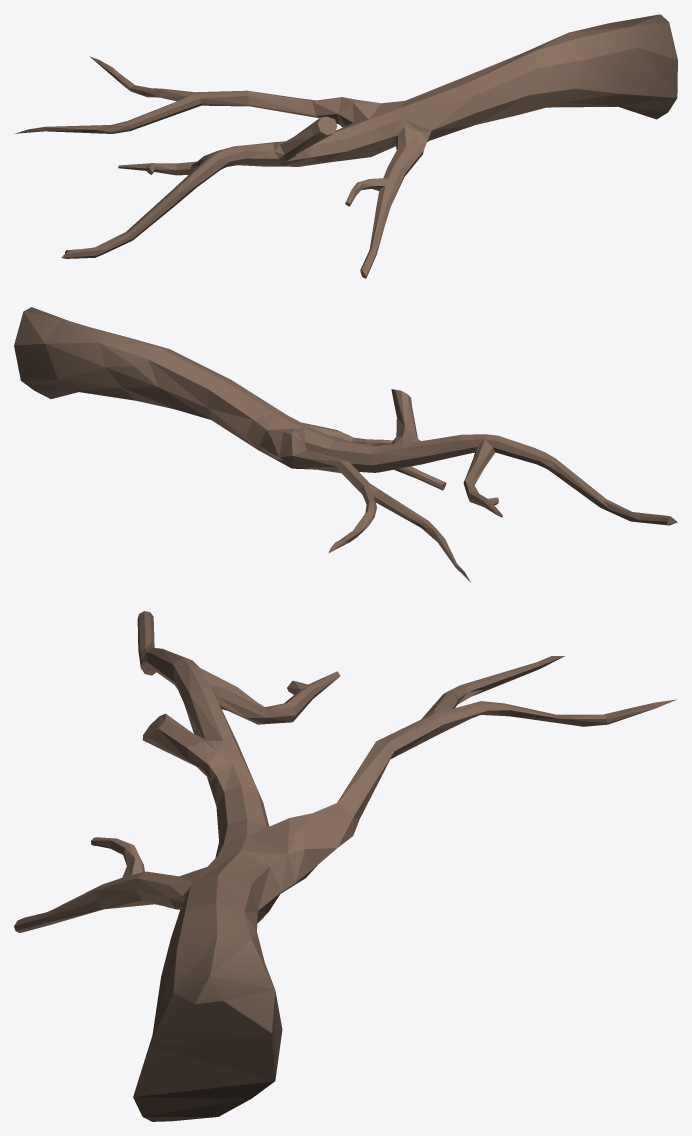
File: Jungle_Branch_B.fbx
3 renders of one model, top to bottom at view 1: azimuth 30°, elevation 25°; view 2: azimuth 150°, elevation 25°; view 3: azimuth 270°, elevation 25°, orthographic. The views are drawn at different scales.
Parts seen in each view (by area): view 1: Jungle_Branch_B; view 2: Jungle_Branch_B; view 3: Jungle_Branch_B.
Boxes of the visible parts, x1,y1,x2,y2 form: Jungle_Branch_B: (15,14,677,278); Jungle_Branch_B: (14,307,677,582); Jungle_Branch_B: (14,611,677,1121).
Bounding box in the file's own units: 13.8 × 2.82 × 7.54.
Materials: 1 (1 with a texture image).
